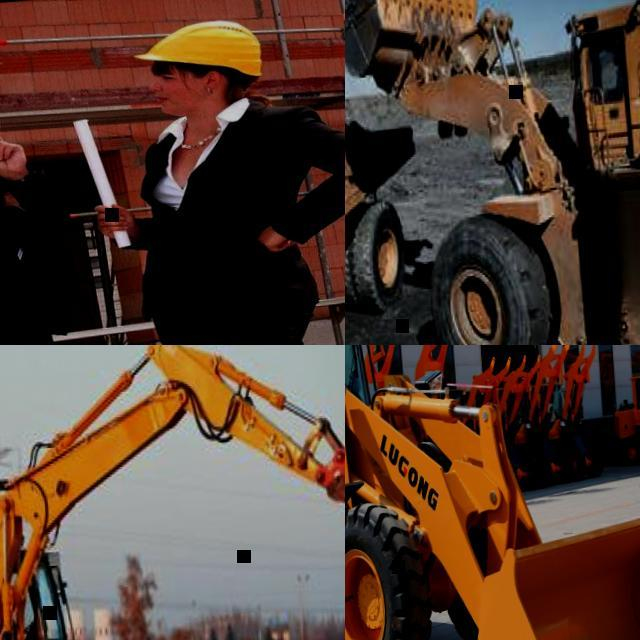Weapon: (60, 1, 342, 347)
objects: (131, 2, 293, 144)
